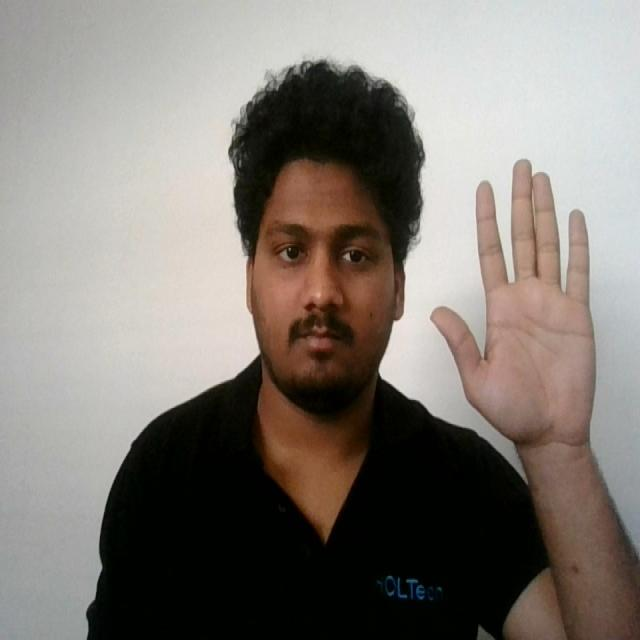Hello: (424, 154, 608, 456)
